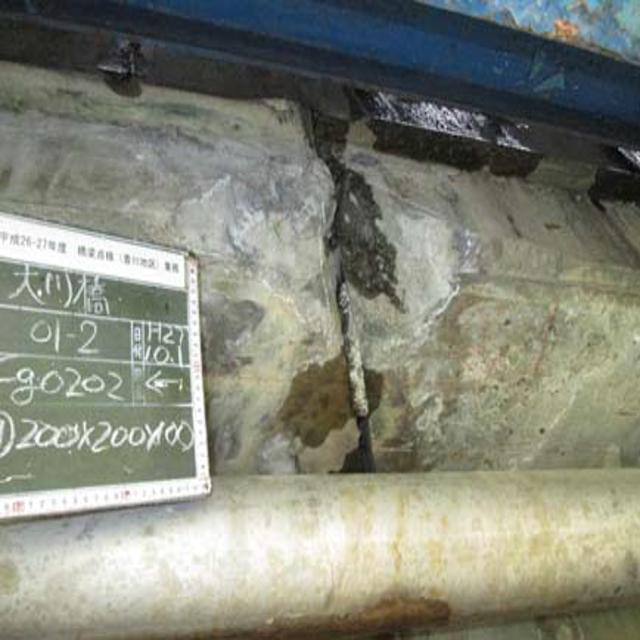spalling: (224, 144, 493, 362)
